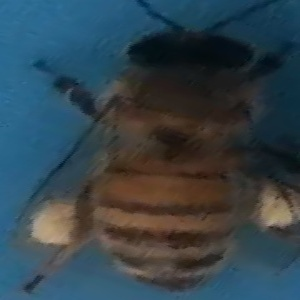bee: (25, 4, 295, 294)
